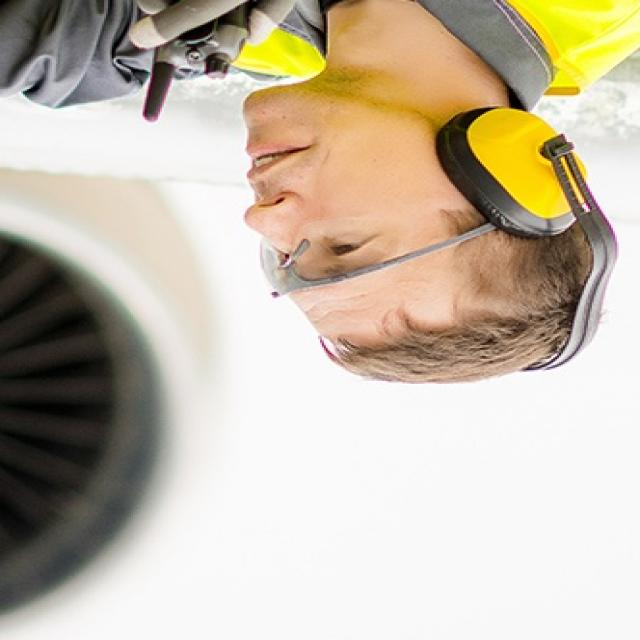goggles: (248, 216, 497, 305)
